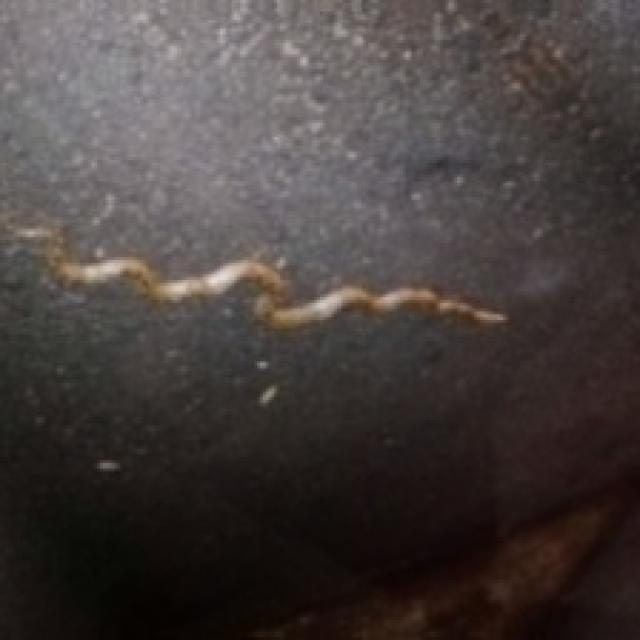reticulated python: (26, 229, 506, 329)
